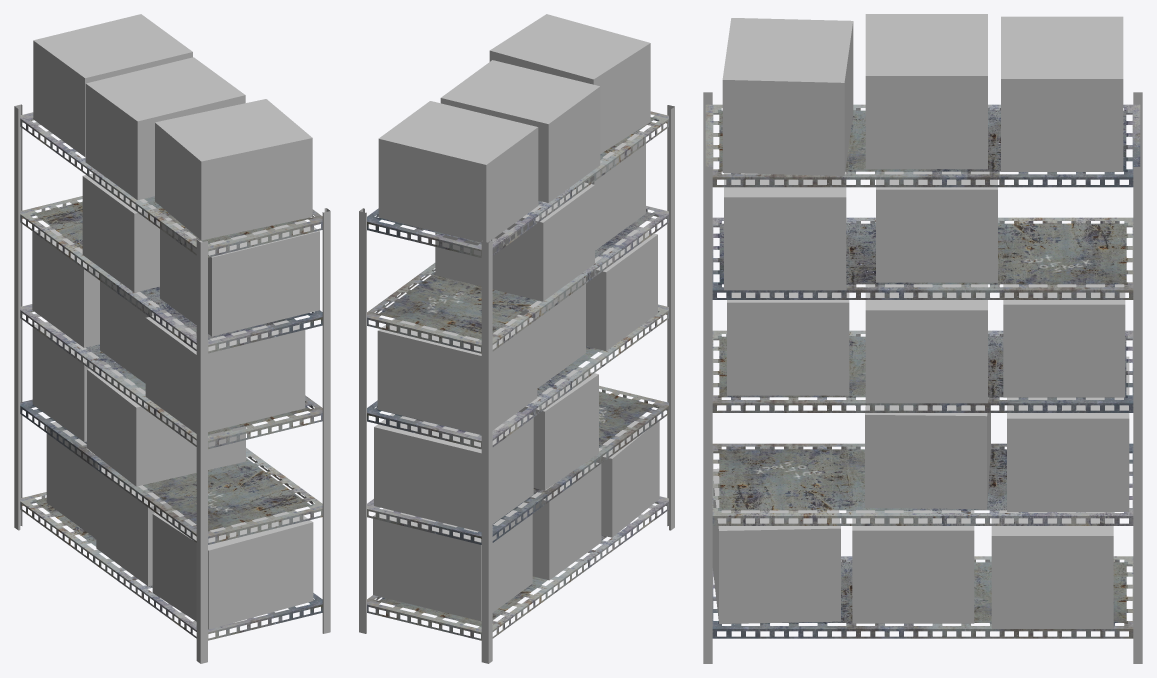
Rendered from StorageShelf.fbx.
3 views of the same model, side by side, from view 1: azimuth 30°, elevation 25°; view 2: azimuth 150°, elevation 25°; view 3: azimuth 270°, elevation 25° (orthographic). The views are drawn at different scales.
Parts seen in each view (by area): view 1: Material2, Material2.001, Material2.002; view 2: Material2, Material2.001, Material2.002; view 3: Material2, Material2.001, Material2.002.
Boxes of the visible parts, bbox=[...] form: Material2: bbox=[32, 14, 319, 629]; Material2.001: bbox=[20, 112, 322, 640]; Material2.002: bbox=[14, 104, 330, 663]; Material2: bbox=[373, 14, 659, 621]; Material2.001: bbox=[367, 111, 668, 640]; Material2.002: bbox=[359, 105, 674, 663]; Material2: bbox=[712, 14, 1129, 628]; Material2.001: bbox=[705, 104, 1140, 638]; Material2.002: bbox=[703, 92, 1142, 663].
Bounding box in the file's own units: 0.8302 × 3 × 2.07.
